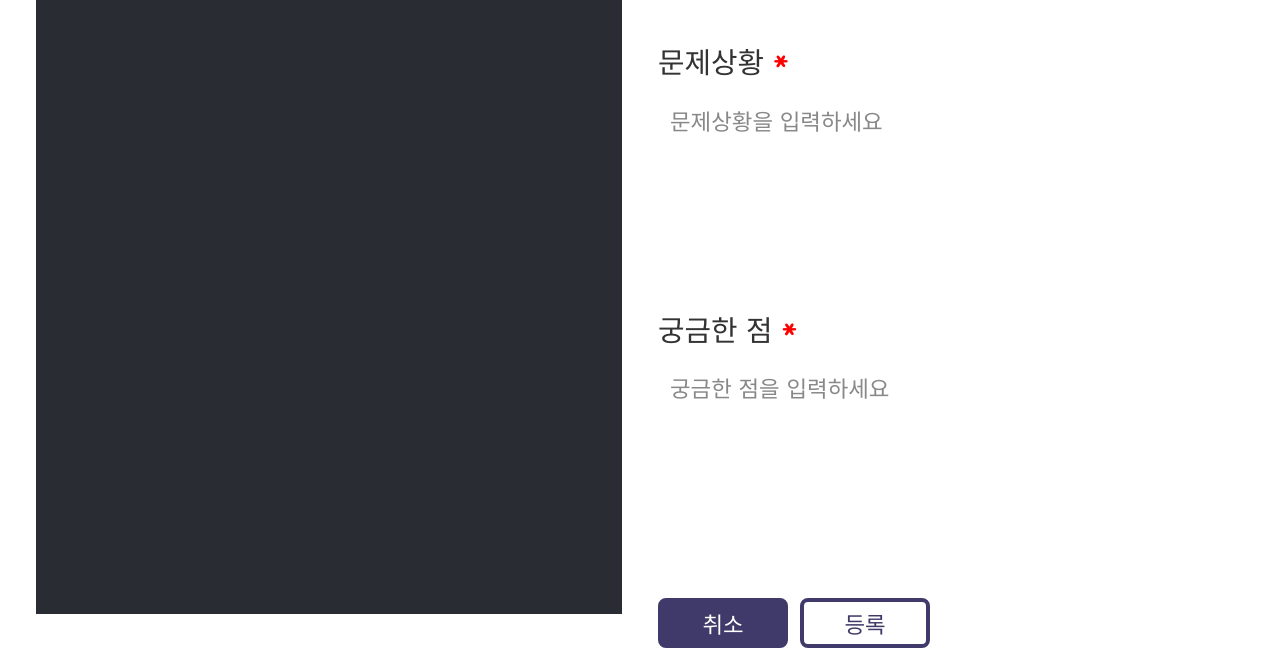
Scenario: ReviewForm › ReviewInfoForm에 값을 잘못읿력 했을 경우에 validation이 정상적으로 동작하는지 확인
(page scrolled)
Step 1. Click the button "등록" → (865, 623), box [800,598,930,648]
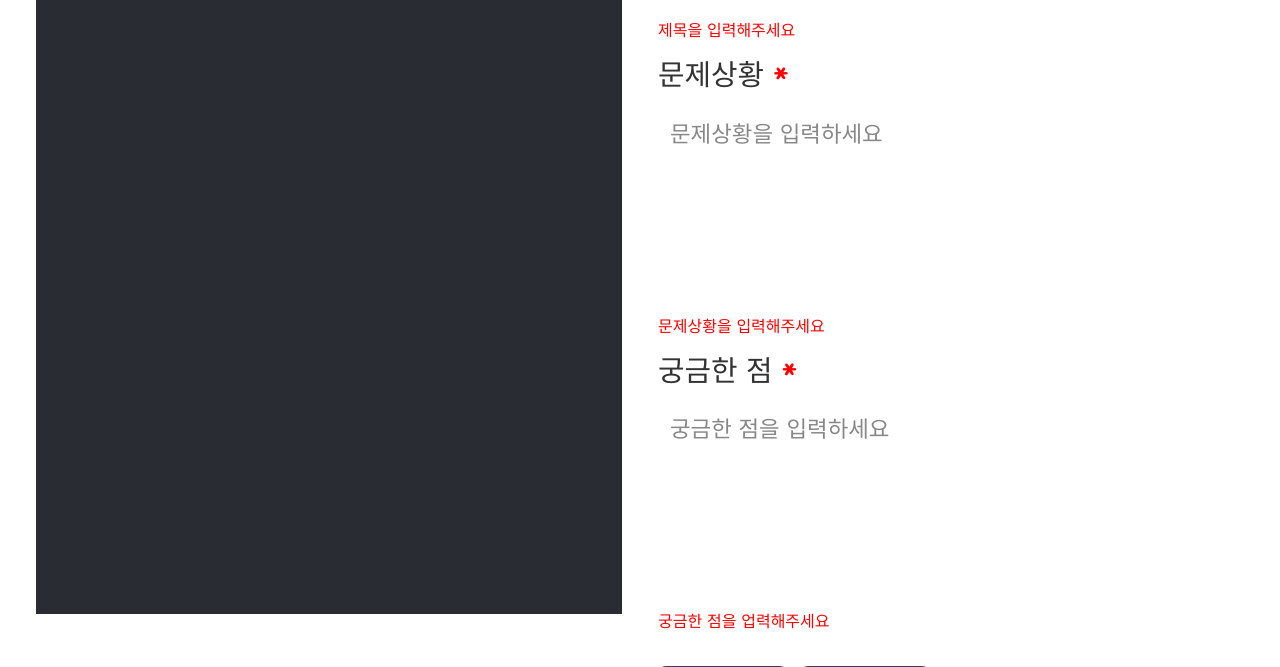
expect the text "제목을 입력해주세요" is shown: met, box [658,23,795,39]
expect the text "문제상황을 입력해주세요" is shown: met, box [658,319,825,335]
